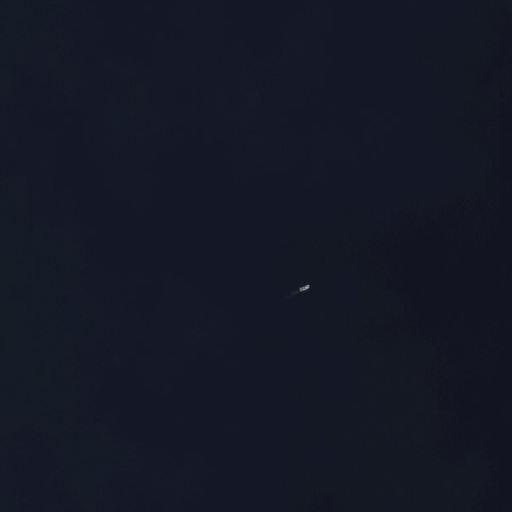ship: (295, 282, 314, 294)
